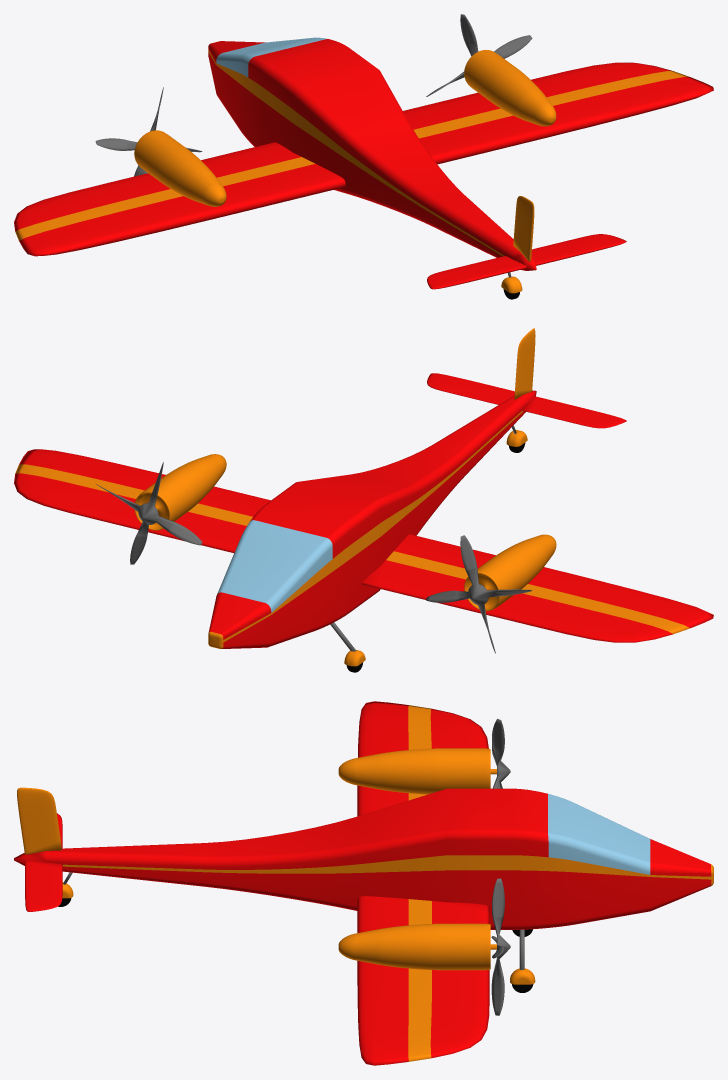
The model's file is perlitekqanaq.fbx.
The picture shows the model from 3 angles, top to bottom: view 1: azimuth 30°, elevation 25°; view 2: azimuth 150°, elevation 25°; view 3: azimuth 270°, elevation 25°; orthographic projection. The views are drawn at different scales.
Visible parts, largest first — view 1: Cube.005, Cube.019, Cube.022, Cube.015, Cube.014, Cube.023, Cube.020; view 2: Cube.005, Cube.019, Cube.022, Cube.015, Cube.014, Cube.020, Cube.023, Cube.007; view 3: Cube.005, Cube.022, Cube.019, Cube.015, Cube.014, Cube.023, Cube.020, Cube.013.
Part boxes in pixels (box(x1,y1,x2,y2)): Cube.005: box(208, 37, 626, 299); Cube.019: box(14, 142, 345, 256); Cube.022: box(403, 62, 713, 164); Cube.015: box(464, 50, 556, 126); Cube.014: box(134, 130, 226, 206); Cube.023: box(426, 14, 532, 96); Cube.020: box(95, 87, 202, 176); Cube.005: box(208, 328, 626, 648); Cube.019: box(362, 534, 713, 642); Cube.022: box(14, 449, 270, 552); Cube.015: box(134, 454, 226, 530); Cube.014: box(464, 534, 556, 610); Cube.020: box(426, 535, 531, 653); Cube.023: box(96, 462, 202, 564); Cube.007: box(330, 622, 365, 672); Cube.005: box(14, 787, 713, 929); Cube.022: box(357, 896, 489, 1065); Cube.019: box(357, 701, 488, 816); Cube.015: box(338, 923, 496, 970); Cube.014: box(338, 748, 496, 794); Cube.023: box(491, 878, 510, 1015); Cube.020: box(492, 718, 510, 788); Cube.013: box(510, 929, 535, 992).
Size of the model in its own units: 2493 by 562 by 2024.
